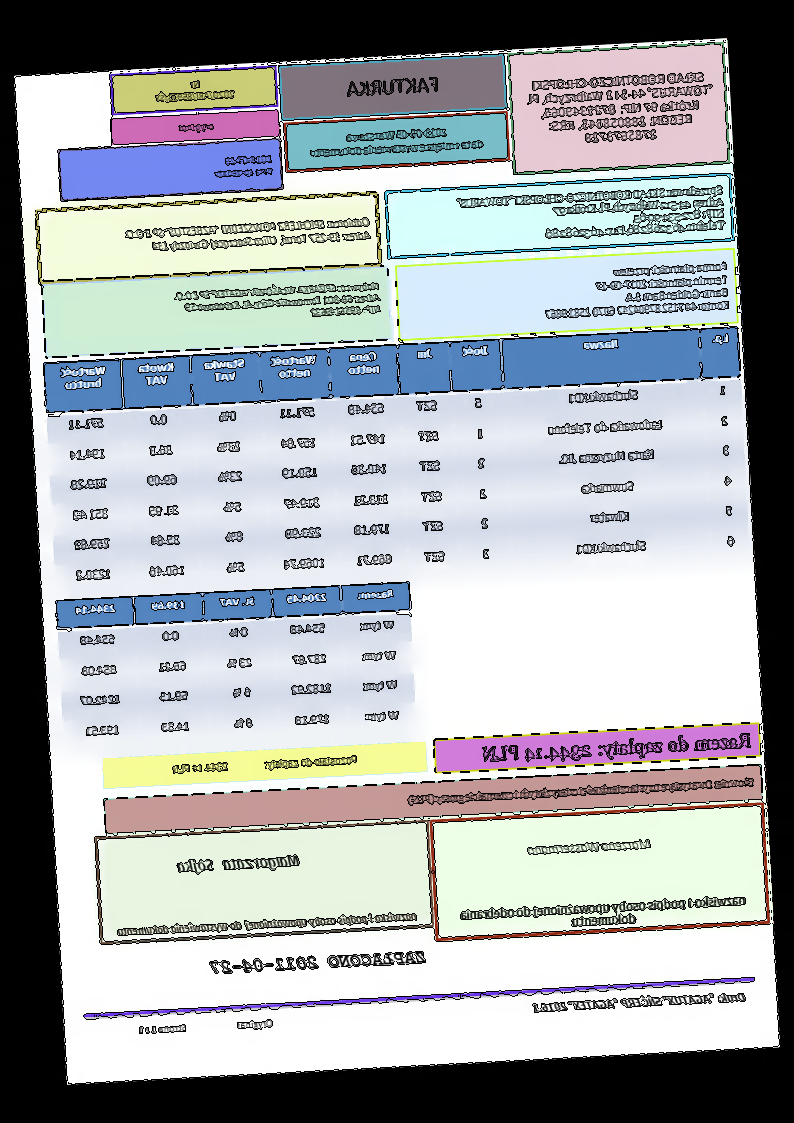Table: (41, 325, 752, 599), (55, 580, 419, 753)
TextBox: (455, 182, 728, 248), (523, 69, 716, 150), (406, 773, 756, 810), (457, 891, 750, 935), (479, 724, 754, 768), (542, 258, 732, 321), (122, 213, 374, 258), (172, 277, 384, 328), (115, 908, 420, 939), (209, 947, 428, 978), (308, 124, 485, 159), (531, 988, 747, 1015), (169, 750, 361, 778), (134, 1014, 277, 1039), (524, 834, 655, 859), (175, 850, 302, 875), (152, 74, 237, 106), (343, 73, 442, 100), (213, 151, 275, 181), (177, 118, 217, 135)
